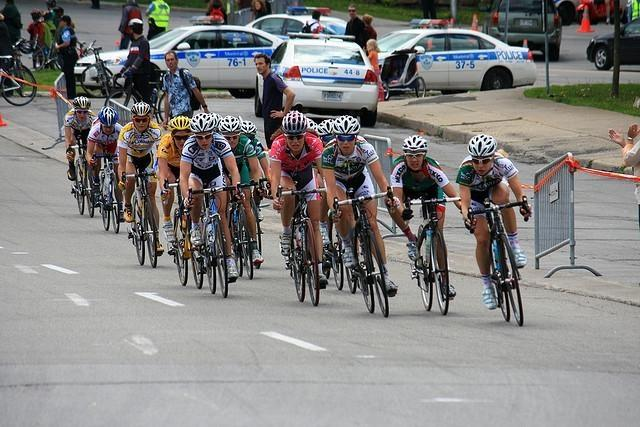bicycle: (332, 182, 395, 318), (468, 196, 532, 327), (403, 190, 462, 316), (188, 185, 236, 298), (278, 186, 324, 299), (164, 179, 204, 289), (122, 172, 157, 268), (227, 183, 257, 280), (65, 130, 95, 219), (92, 153, 120, 234), (82, 46, 112, 98), (0, 67, 38, 107), (324, 214, 344, 290)
car: (74, 24, 284, 101), (255, 38, 379, 128), (374, 27, 538, 89), (490, 2, 562, 68), (583, 19, 640, 69), (245, 14, 348, 40)
